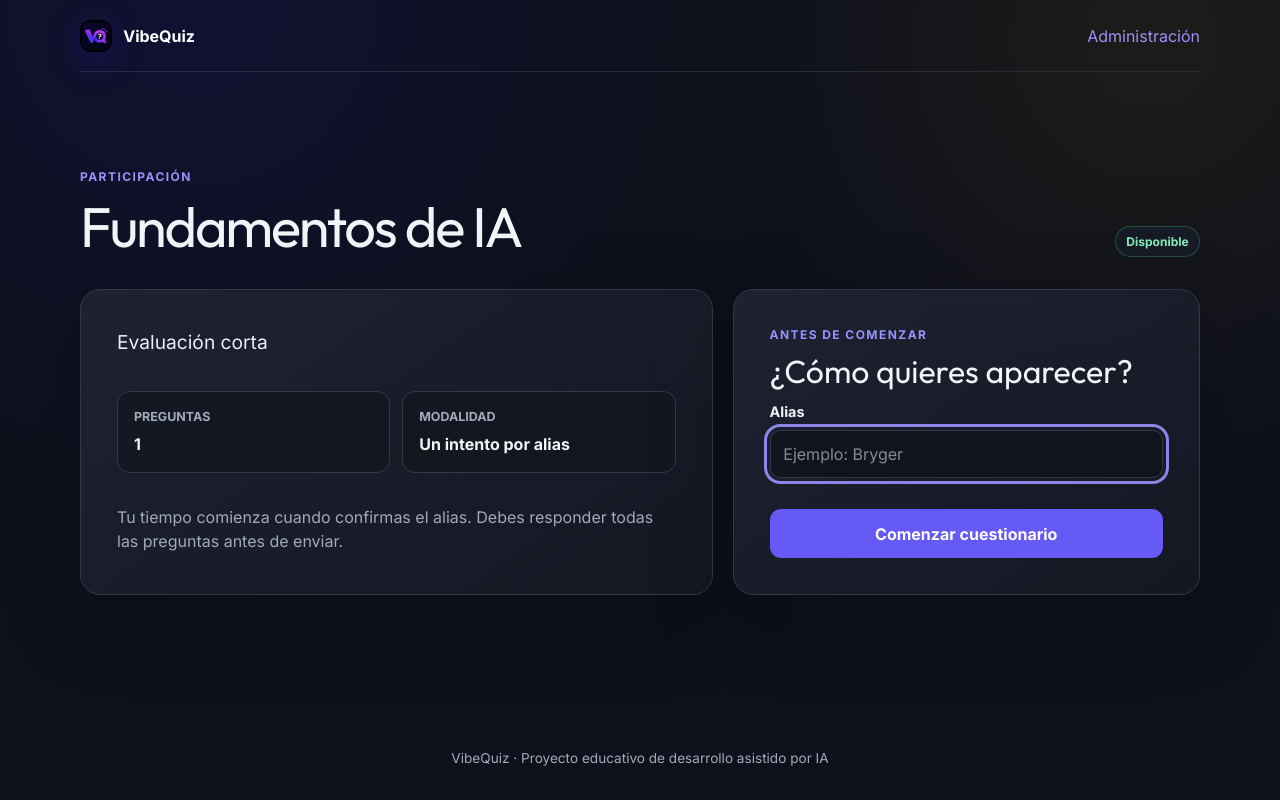
Test: public quiz entry › validates that an alias is required
The width and height of the screenshot is (1280, 800).
Expected: the heading "Fundamentos de IA" is shown, left=80, top=196, right=521, bottom=257
Click the button "Comenzar cuestionario".
click(966, 534)  # box left=770, top=509, right=1163, bottom=558
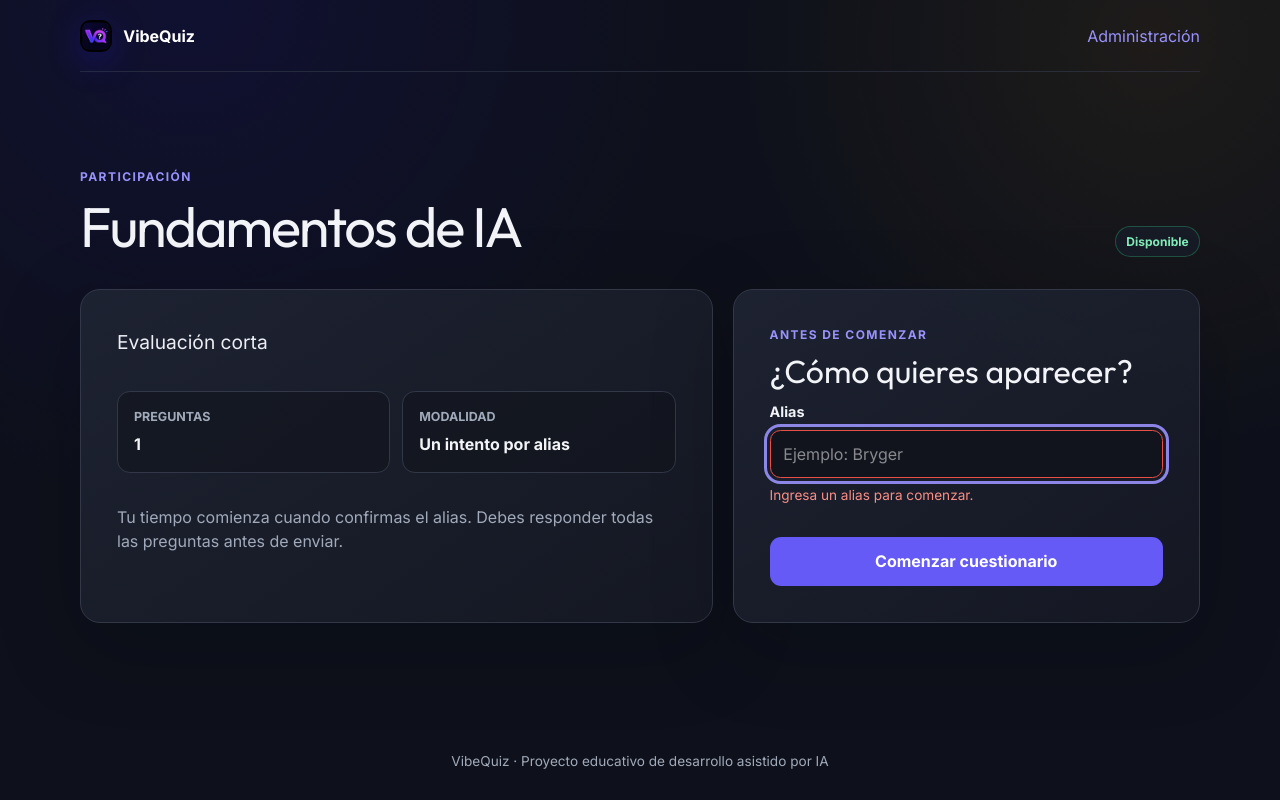
Expected: the text "Ingresa un alias para comenzar." is shown, left=770, top=487, right=974, bottom=503
